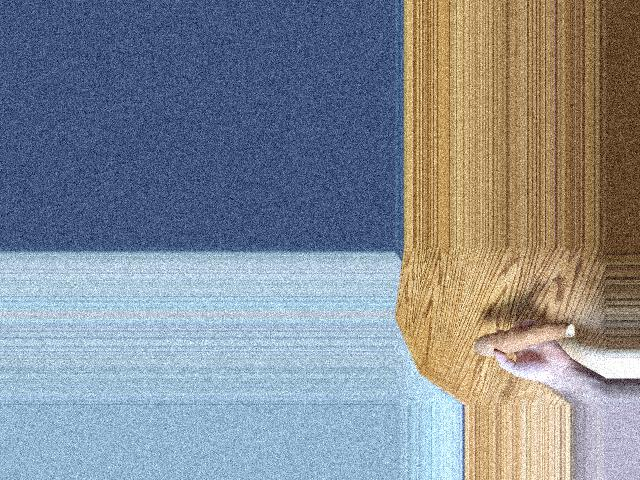sweet_potato: (468, 322, 571, 352)
